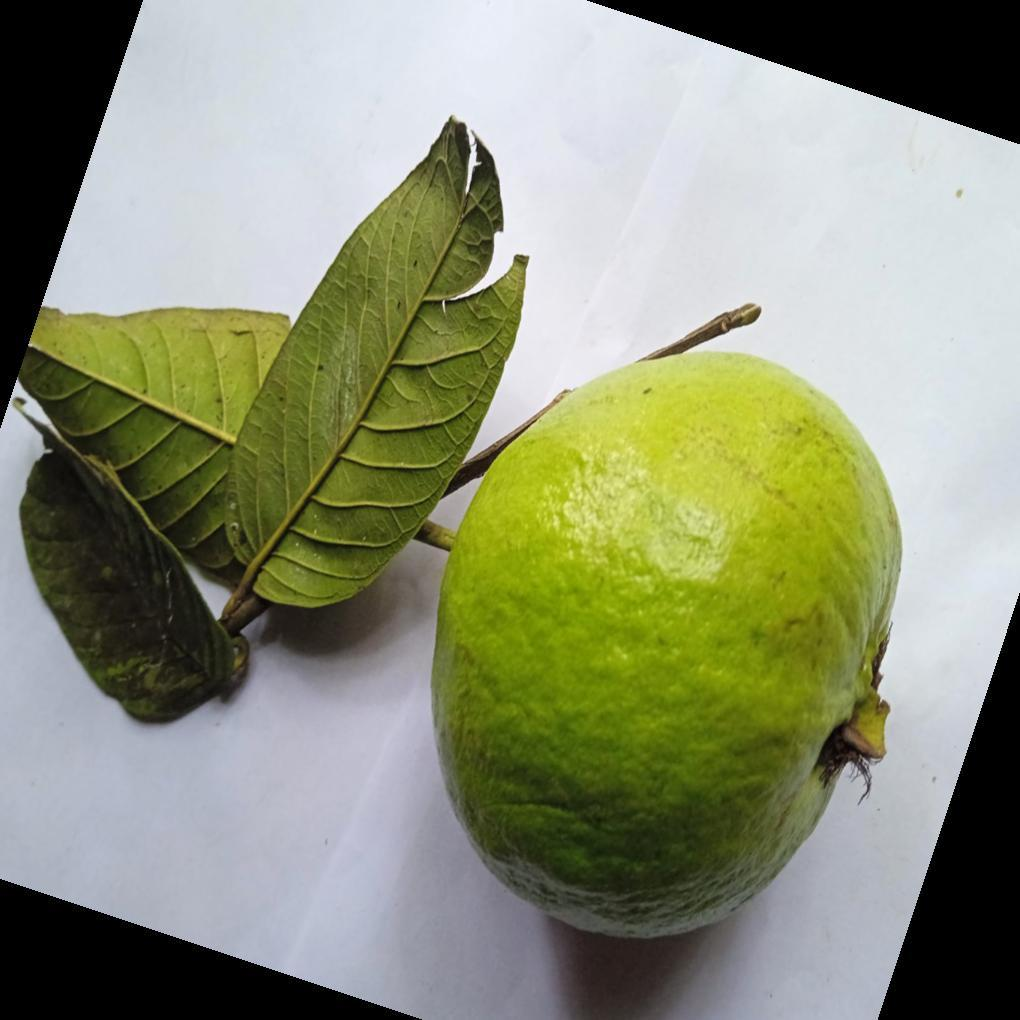FreshGuava: (428, 349, 903, 945)
